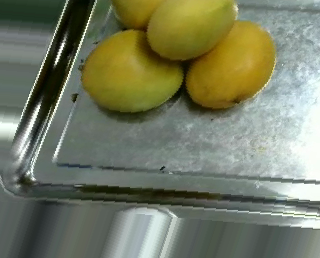Mango: (78, 28, 184, 117), (181, 18, 275, 109), (145, 1, 239, 63)
